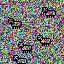sheep: (42, 6, 56, 18), (37, 34, 51, 46), (8, 18, 23, 29), (12, 54, 28, 64), (18, 42, 32, 53)
